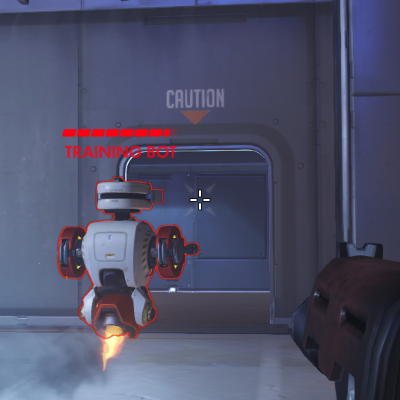hpbar: (62, 128, 178, 137)
